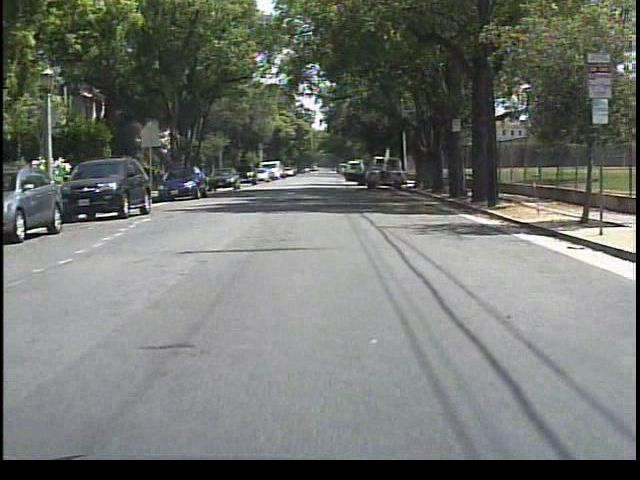person: (352, 161, 368, 187)
